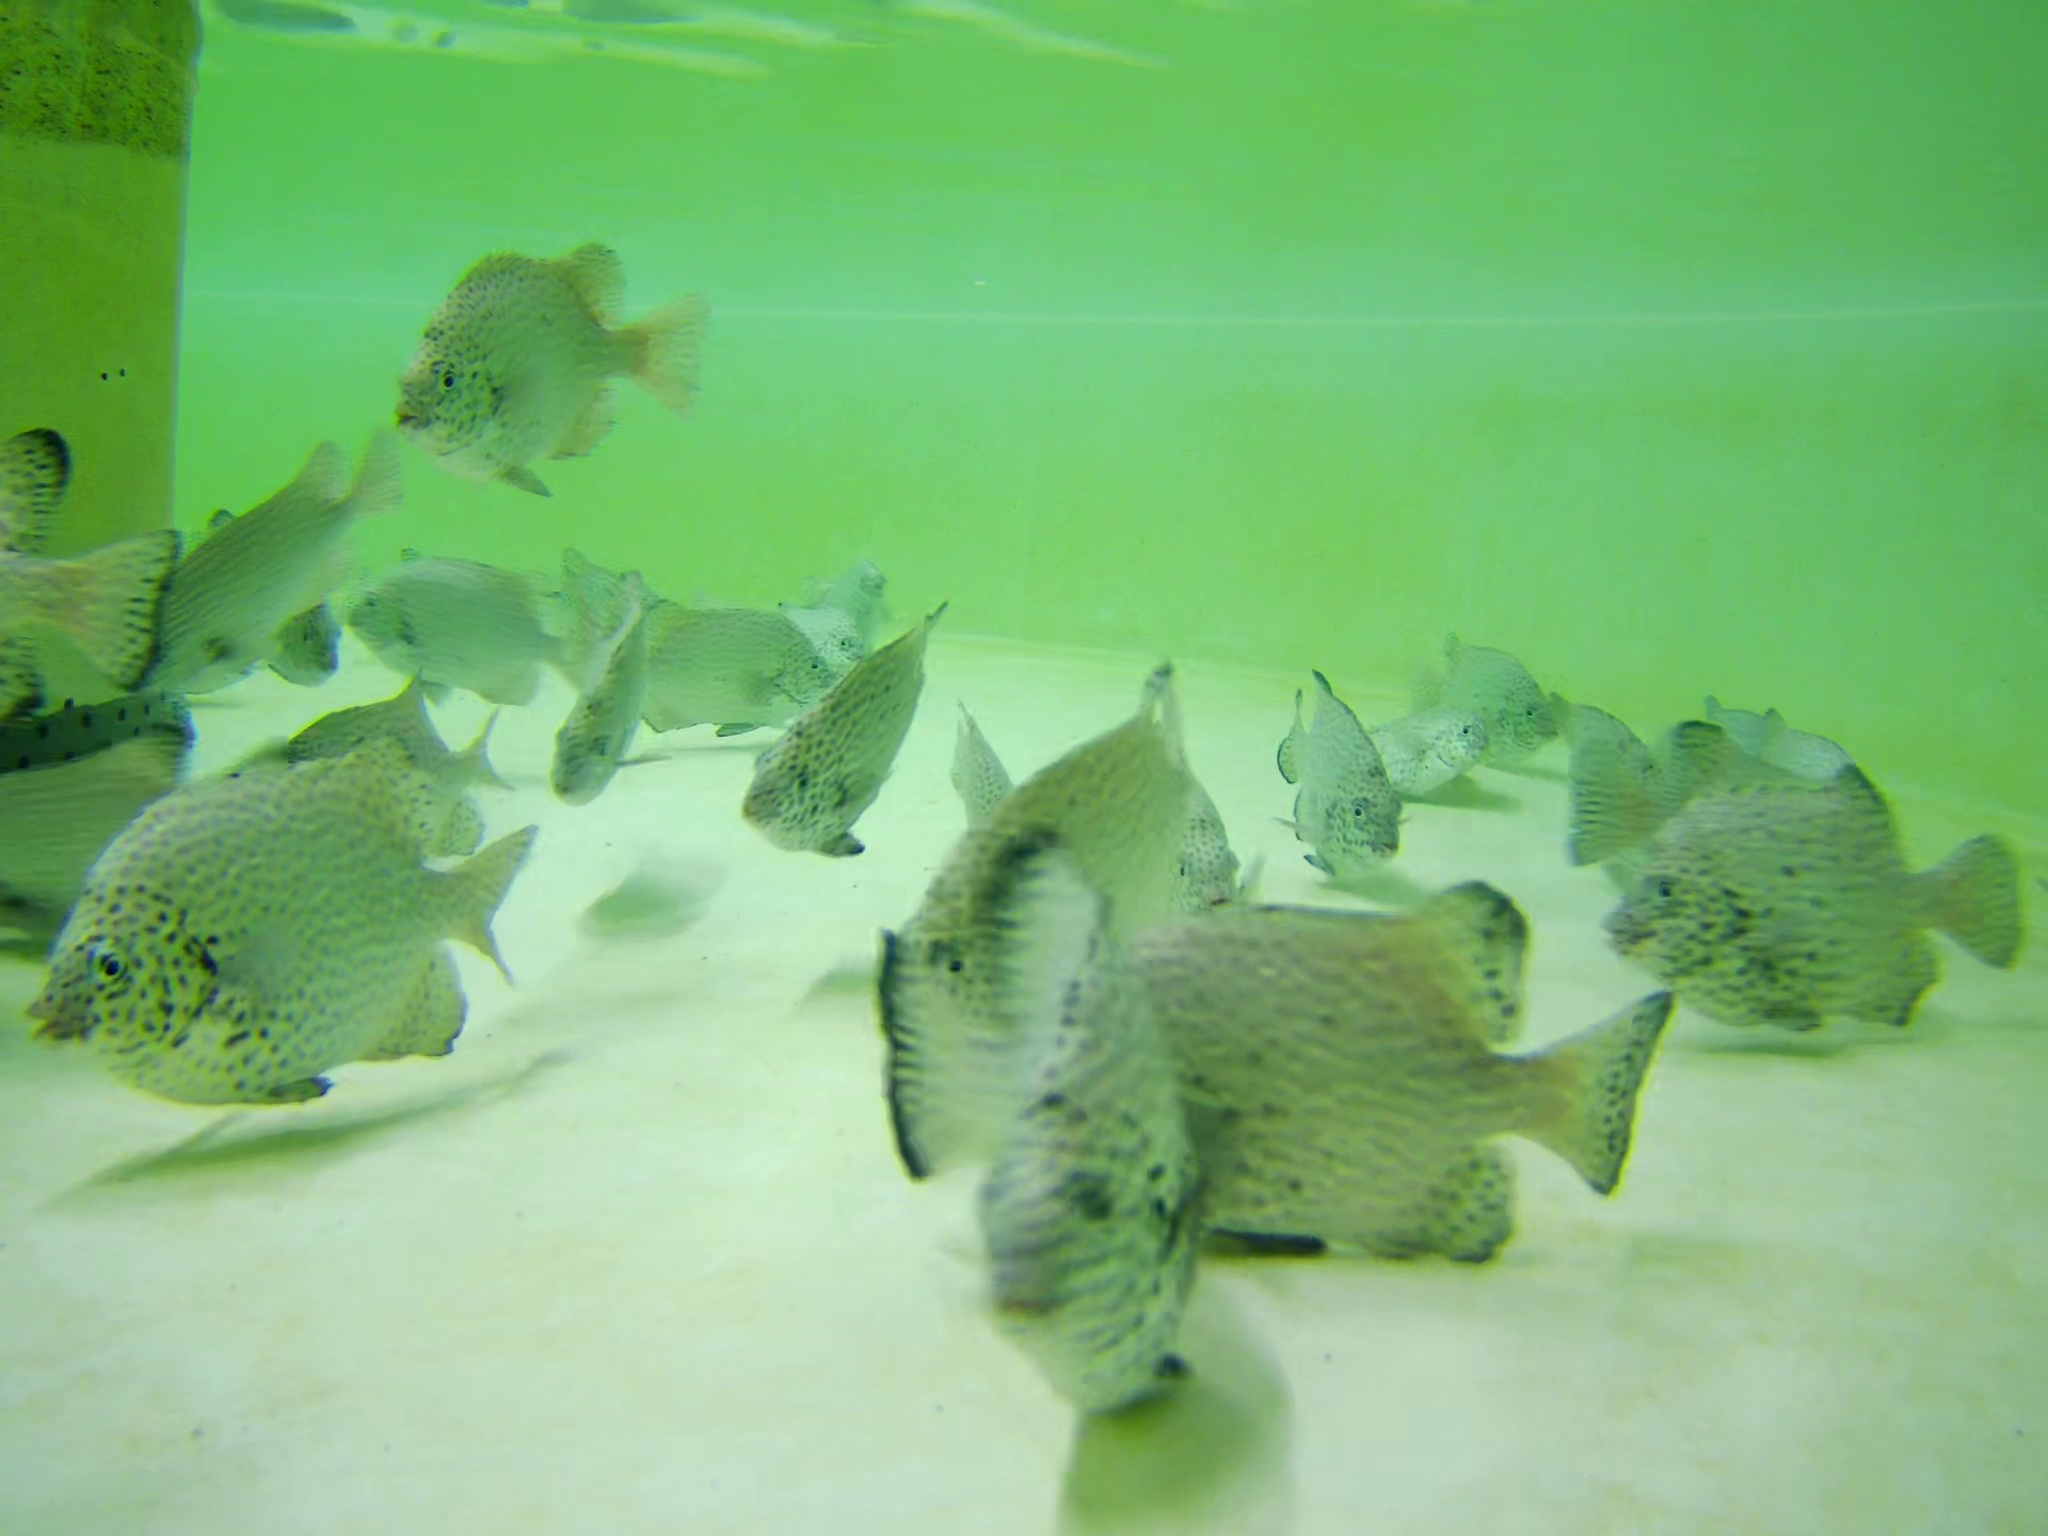fish: (1113, 881, 1659, 1267), (23, 758, 545, 1110), (968, 908, 1226, 1425), (1611, 758, 2024, 1037), (392, 232, 713, 486), (103, 431, 408, 695), (872, 850, 1101, 1191), (735, 615, 940, 862), (1542, 702, 1832, 863), (2, 416, 152, 710), (969, 708, 1169, 908), (210, 699, 503, 823), (352, 539, 547, 710), (598, 600, 832, 739), (1045, 747, 1224, 897), (535, 579, 658, 784), (1276, 676, 1401, 873), (1426, 616, 1558, 768), (1358, 673, 1488, 786), (797, 550, 887, 676)
